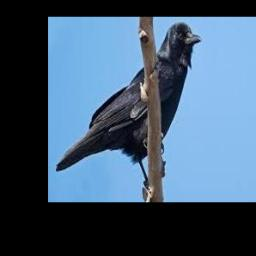Crow: (55, 20, 201, 181)
